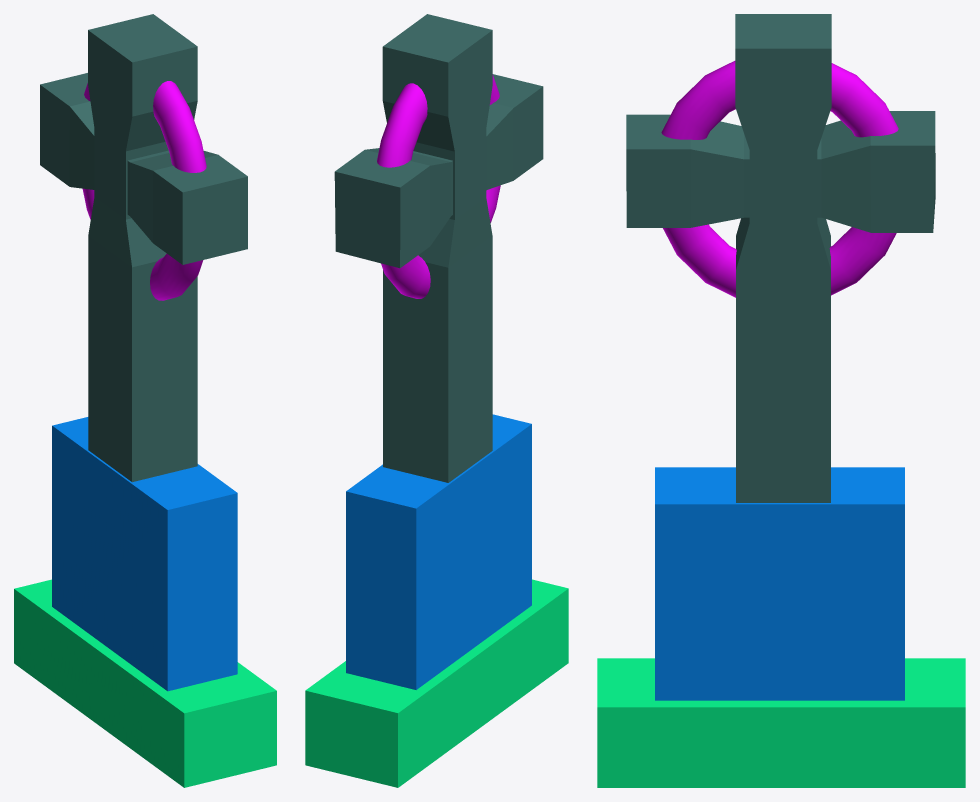
Rendered from Lapida_5.fbx.
3 renders of one model, left to right at view 1: azimuth 30°, elevation 25°; view 2: azimuth 150°, elevation 25°; view 3: azimuth 270°, elevation 25°, orthographic. The views are drawn at different scales.
Parts seen in each view (by area): view 1: pCube16, pCube13, pCube12, pTorus1; view 2: pCube16, pCube13, pCube12, pTorus1; view 3: pCube16, pCube13, pCube12, pTorus1.
Boxes of the visible parts, bbox=[...] form: pCube16: bbox=[40, 14, 247, 482]; pCube13: bbox=[52, 417, 237, 691]; pCube12: bbox=[14, 579, 276, 787]; pTorus1: bbox=[82, 81, 206, 300]; pCube16: bbox=[334, 14, 543, 482]; pCube13: bbox=[346, 414, 531, 689]; pCube12: bbox=[305, 579, 568, 787]; pTorus1: bbox=[377, 74, 500, 298]; pCube16: bbox=[626, 14, 935, 502]; pCube13: bbox=[655, 467, 904, 700]; pCube12: bbox=[597, 658, 965, 787]; pTorus1: bbox=[661, 61, 898, 297].
Bounding box in the file's own units: 1 × 6.97 × 3.18.
